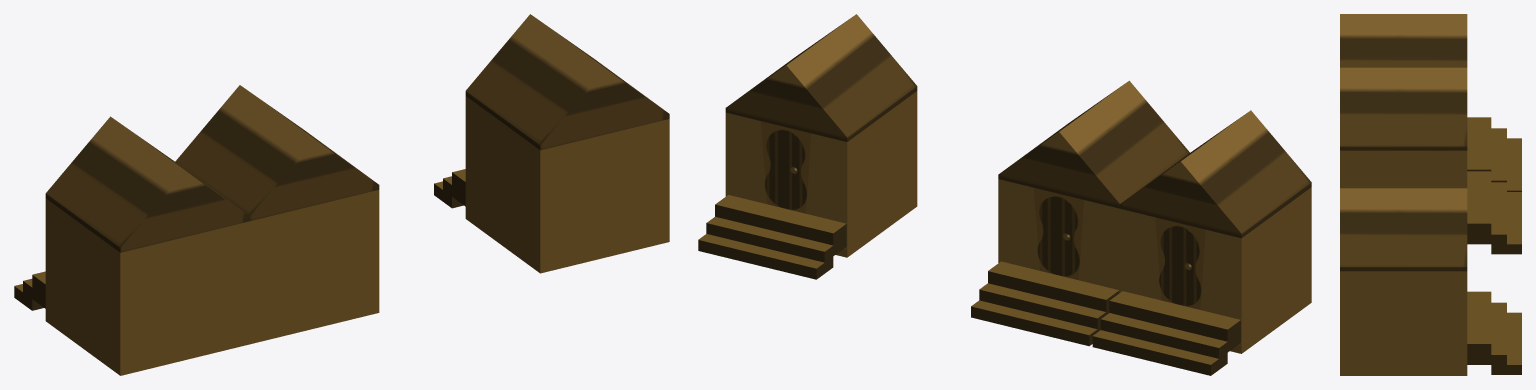
File: huis1.fbx
3 renders of one model, left to right at view 1: azimuth 30°, elevation 25°; view 2: azimuth 150°, elevation 25°; view 3: azimuth 270°, elevation 25°, orthographic. The views are drawn at different scales.
Parts seen in each view (by area): view 1: huis1; view 2: huis1; view 3: huis1.
Part boxes in pixels (x1,y1,x2,y2): huis1: (14, 14, 669, 375); huis1: (698, 14, 1311, 375); huis1: (1340, 14, 1521, 375).
Bounding box in the file's own units: 0.0989 × 0.0325 × 0.0333.
1 material, 1 textured.
